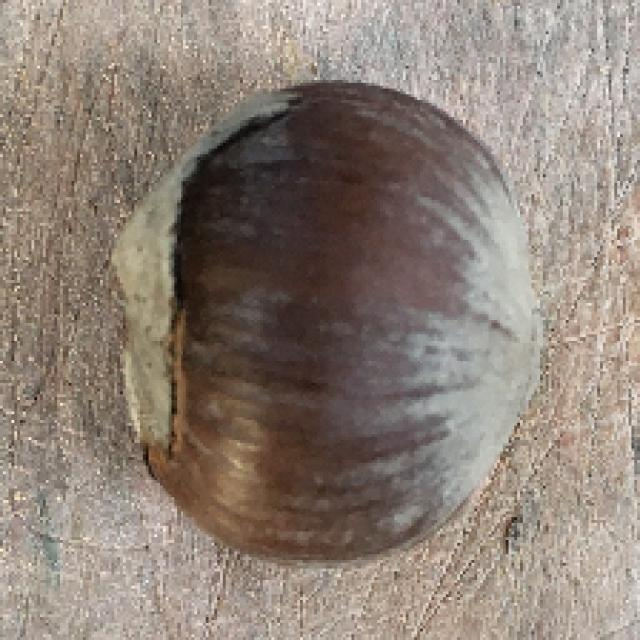damagedHazelnut: (108, 73, 549, 569)
